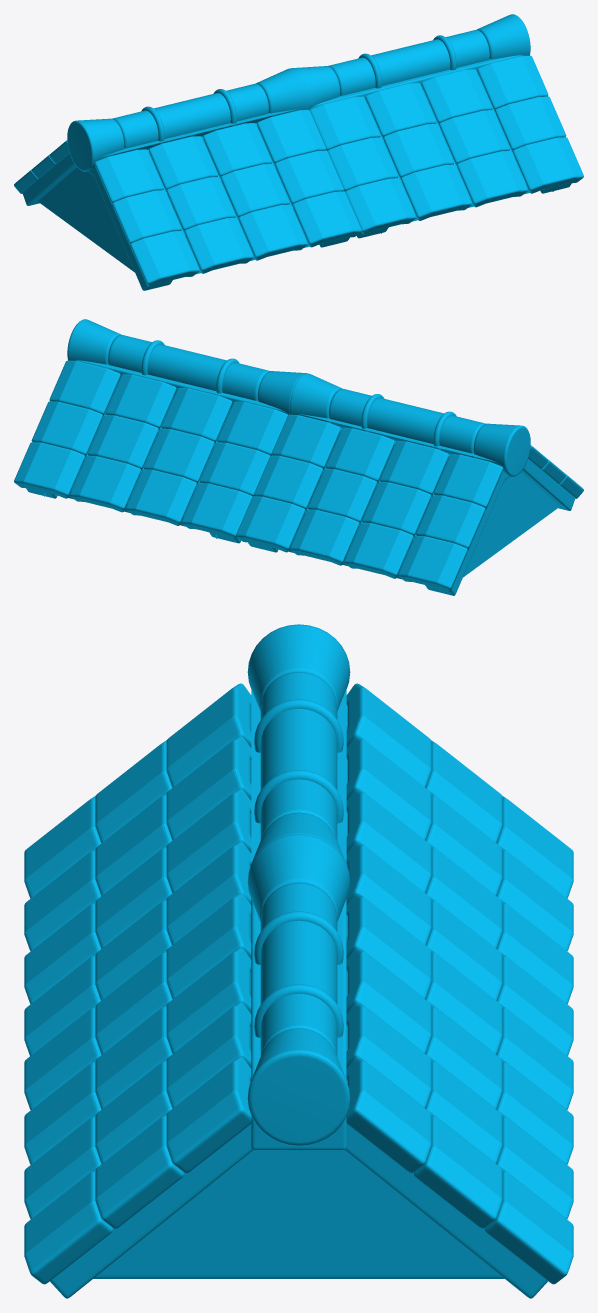
Rendered from SM_Wood_Roof_06.fbx.
3 views of the same model, one above another, from view 1: azimuth 30°, elevation 25°; view 2: azimuth 150°, elevation 25°; view 3: azimuth 270°, elevation 25° (orthographic). The views are drawn at different scales.
Visible parts, largest first — view 1: SM_Wood_Roof_06; view 2: SM_Wood_Roof_06; view 3: SM_Wood_Roof_06.
Part boxes in pixels (x1,y1,x2,y2): SM_Wood_Roof_06: (14, 14, 583, 290); SM_Wood_Roof_06: (14, 319, 583, 595); SM_Wood_Roof_06: (24, 624, 573, 1298).
Size of the model in its own units: 4.94 by 1.37 by 2.67.
